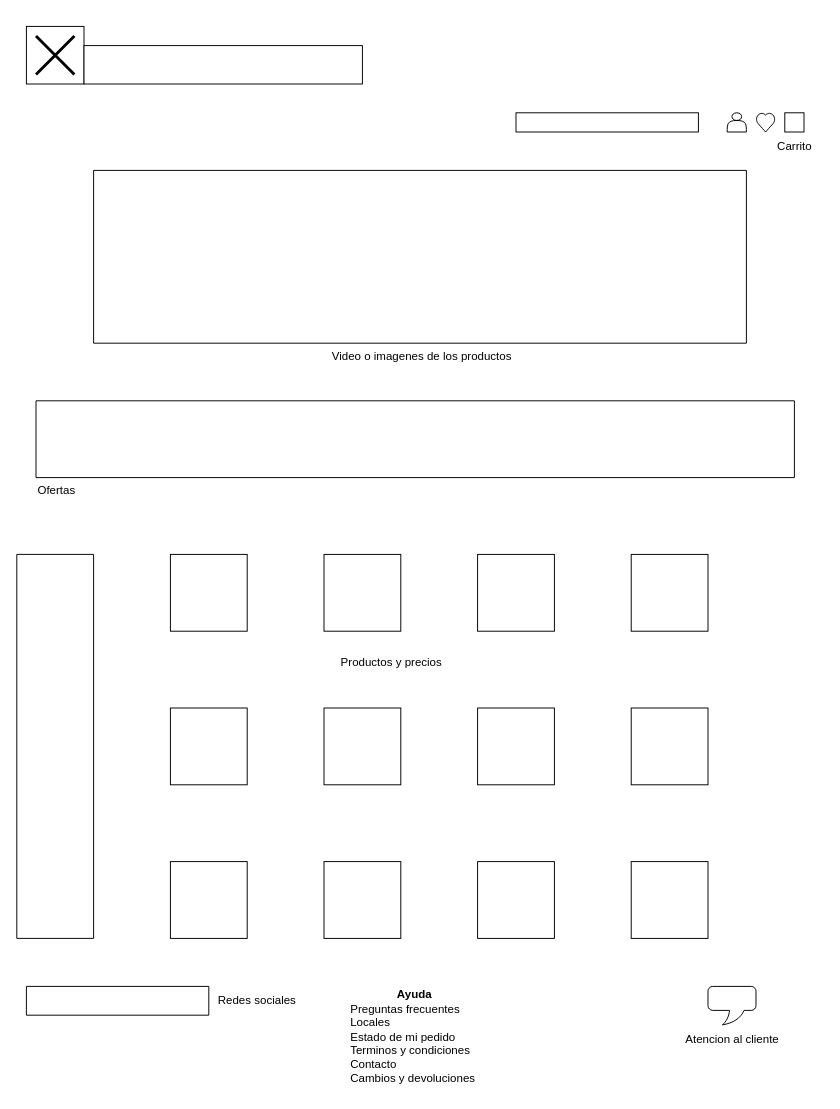
The diagram is 840 pixels wide and 1109 high, and some of its shapes have lost their labels. The box of each missing label's shape, as (x1, y1, x2, y2) in pixels:
Buscar: (515, 112, 698, 132)
Talles: (16, 553, 94, 938)
